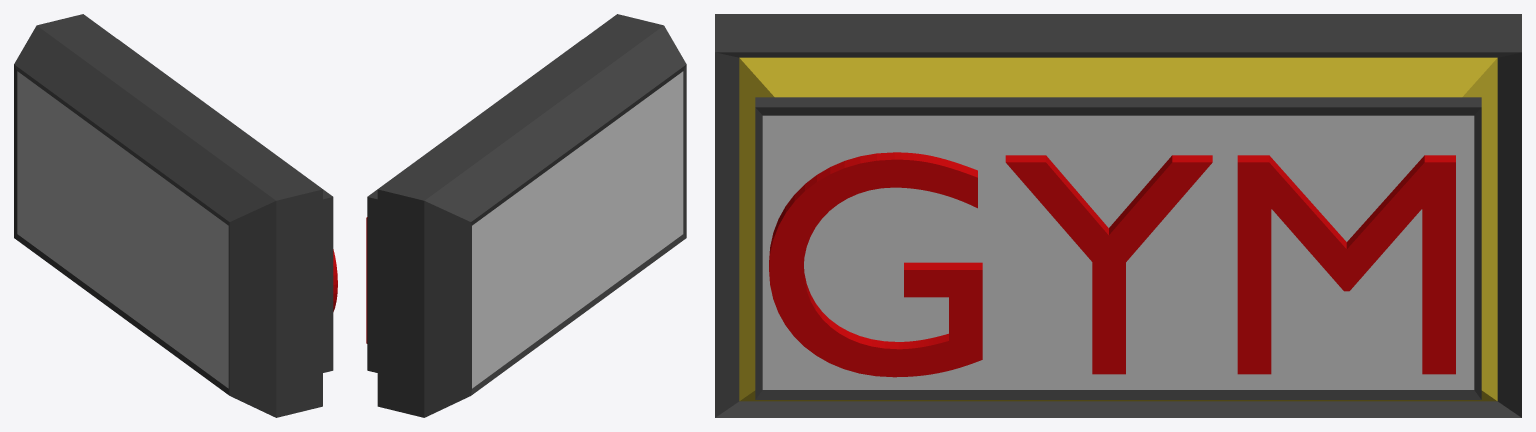
Rendered from Gym Sign.fbx.
3 renders of one model, left to right at view 1: azimuth 30°, elevation 25°; view 2: azimuth 150°, elevation 25°; view 3: azimuth 270°, elevation 25°, orthographic. The views are drawn at different scales.
Visible parts, largest first — view 1: Gym Sign; view 2: Gym Sign; view 3: Gym Sign.
Boxes of the visible parts, x1,y1,x2,y2 form: Gym Sign: [14, 14, 337, 417]; Gym Sign: [366, 14, 686, 417]; Gym Sign: [715, 14, 1521, 417].
Bounding box in the file's own units: 216 × 400 × 800.
